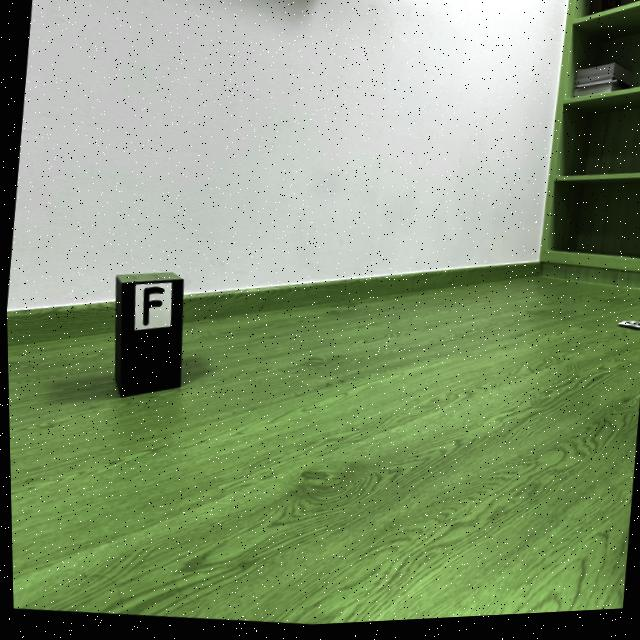F: (141, 287, 163, 327)
